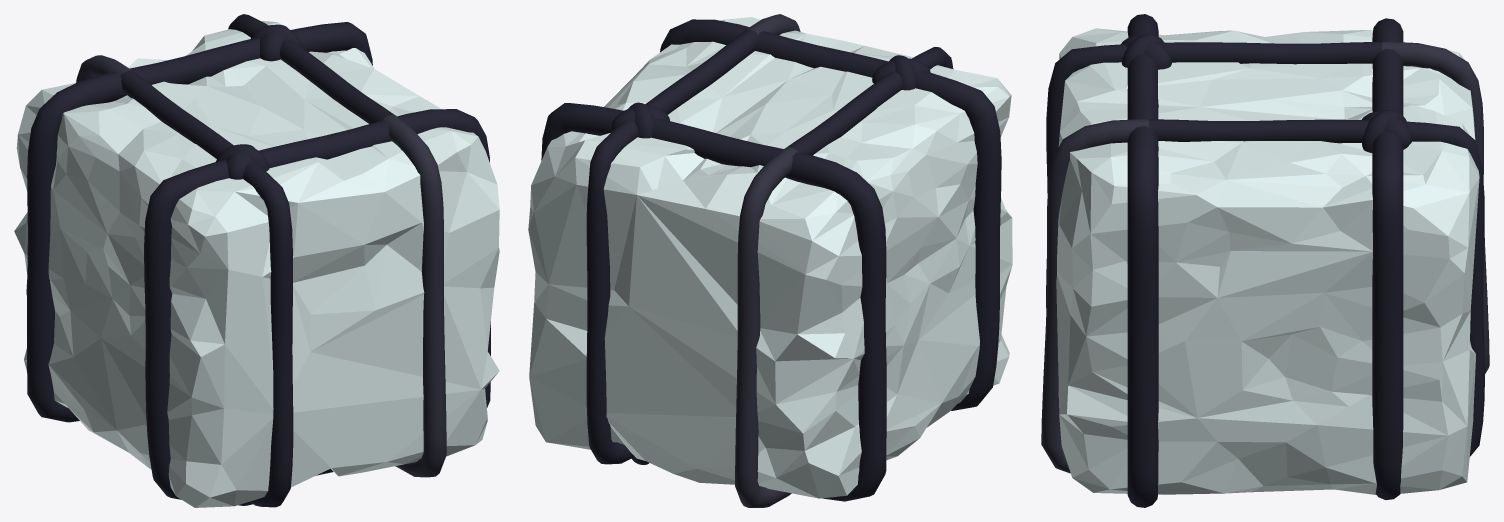
The model's file is fardo_Bl.fbx.
3 renders of one model, left to right at view 1: azimuth 30°, elevation 25°; view 2: azimuth 150°, elevation 25°; view 3: azimuth 270°, elevation 25°, orthographic. The views are drawn at different scales.
Visible parts, largest first — view 1: fardo_Bl; view 2: fardo_Bl; view 3: fardo_Bl.
Part boxes in pixels (x1,y1,x2,y2): fardo_Bl: [14, 14, 499, 507]; fardo_Bl: [528, 14, 1012, 507]; fardo_Bl: [1041, 14, 1489, 507].
Size of the model in its own units: 189 by 189 by 203.
